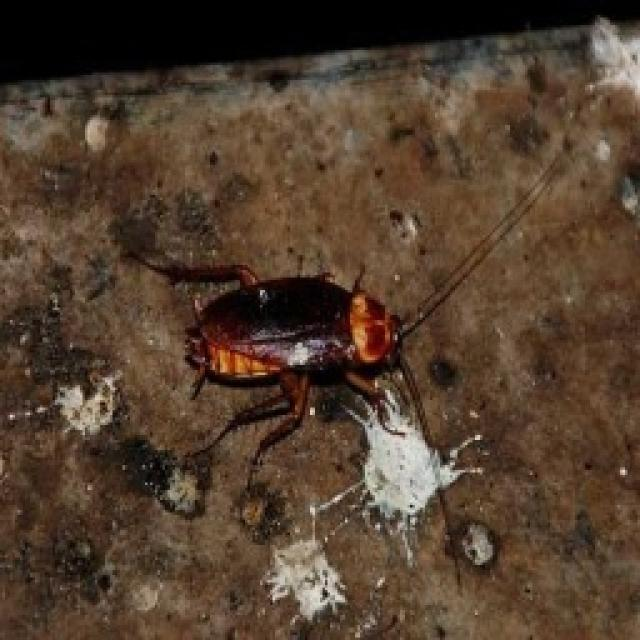cockroach: (140, 242, 434, 478)
